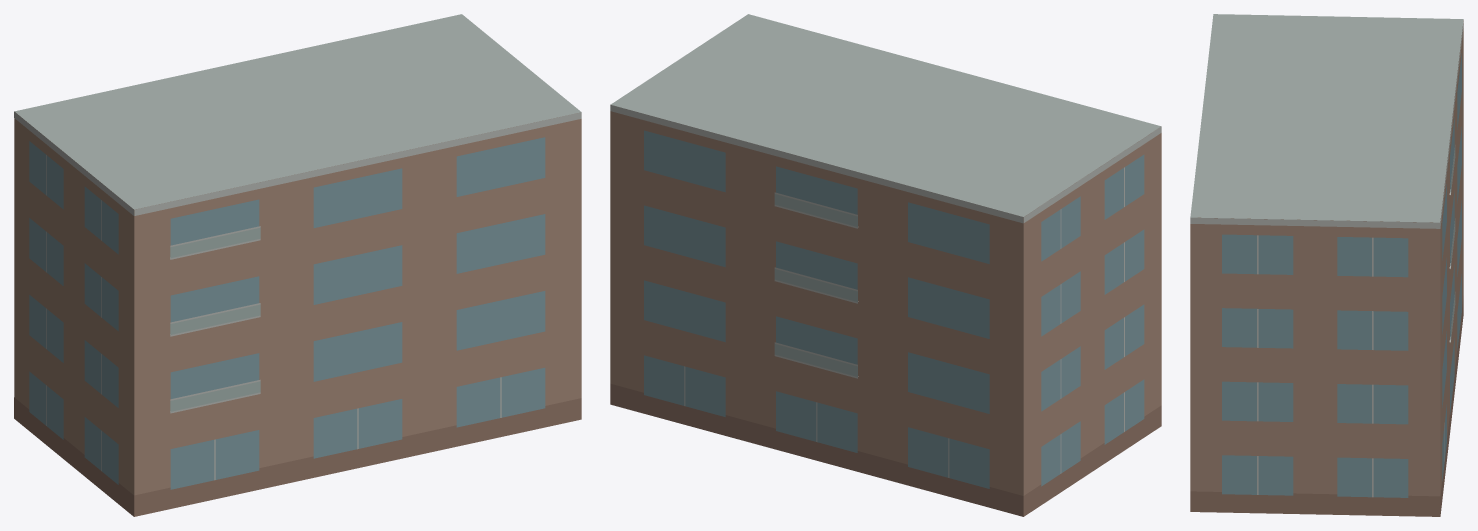
File: survey-upis-32833002.glb
3 renders of one model, left to right at view 1: azimuth 30°, elevation 25°; view 2: azimuth 150°, elevation 25°; view 3: azimuth 270°, elevation 25°, orthographic. The views are drawn at different scales.
Visible parts, largest first — view 1: survey-upis-32833002.tmp; view 2: survey-upis-32833002.tmp; view 3: survey-upis-32833002.tmp.
Boxes of the visible parts, x1,y1,x2,y2 form: survey-upis-32833002.tmp: [14, 14, 581, 516]; survey-upis-32833002.tmp: [610, 14, 1161, 516]; survey-upis-32833002.tmp: [1190, 14, 1463, 516].
Size of the model in its own units: 17.34 by 11.4 by 9.61.
